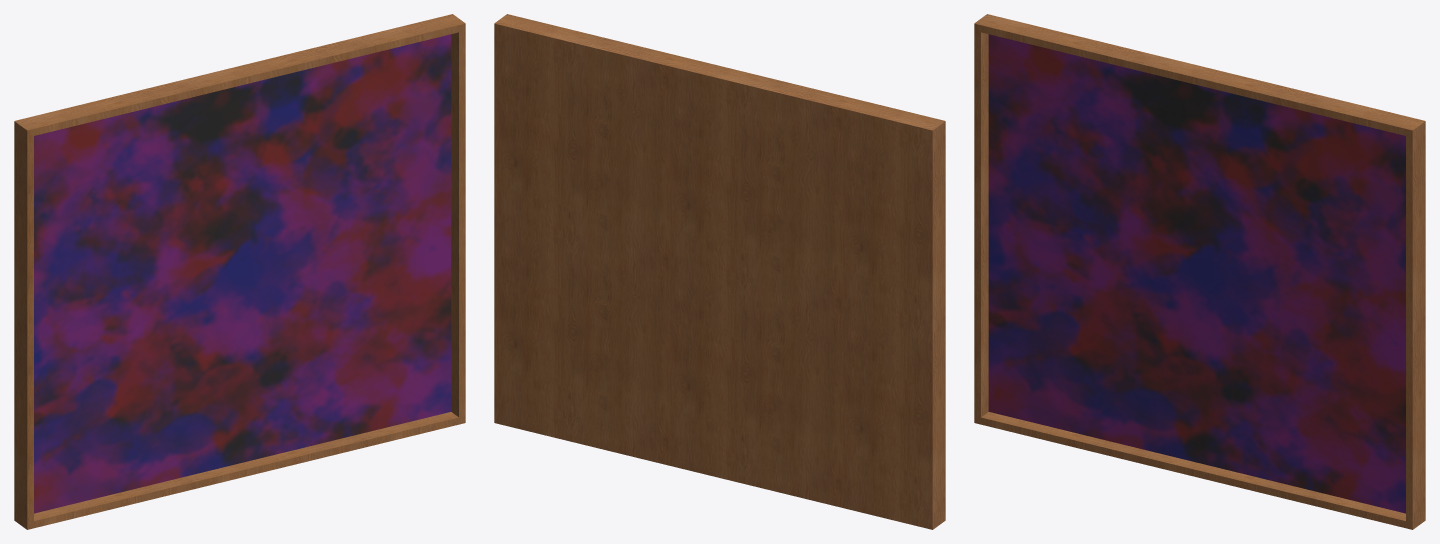
Rendered from PictureFrame1.FBX.
3 renders of one model, left to right at view 1: azimuth 30°, elevation 25°; view 2: azimuth 150°, elevation 25°; view 3: azimuth 330°, elevation 25°, orthographic.
Parts seen in each view (by area): view 1: PictureFrame3; view 2: PictureFrame3; view 3: PictureFrame3.
Part boxes in pixels (x1,y1,x2,y2): PictureFrame3: (14,14,465,529); PictureFrame3: (494,14,945,529); PictureFrame3: (974,14,1425,529).
Size of the model in its own units: 64.41 by 56.04 by 3.32.
